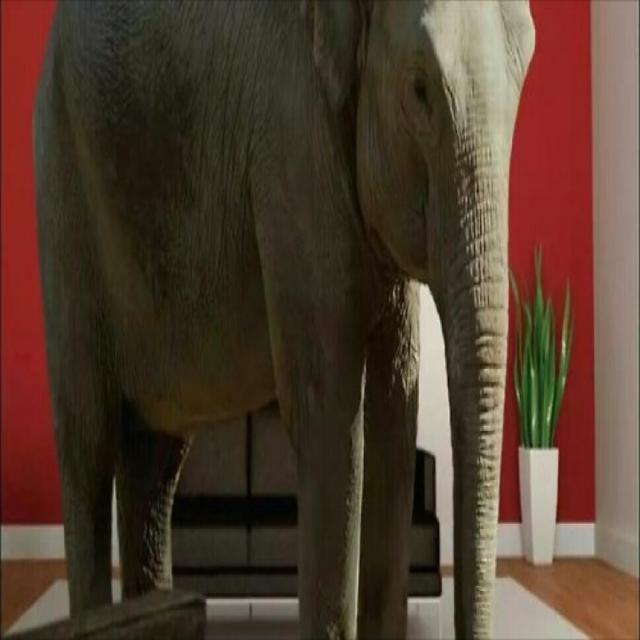Elephant: (32, 0, 539, 638)
